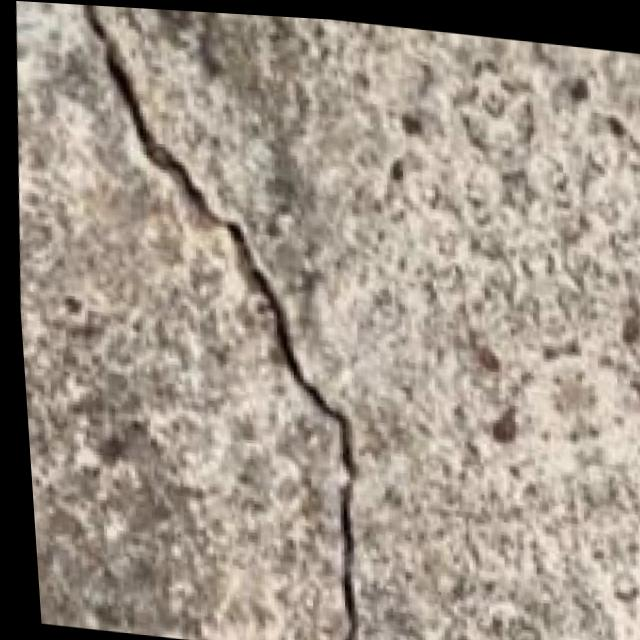Crack: (43, 2, 412, 640)
